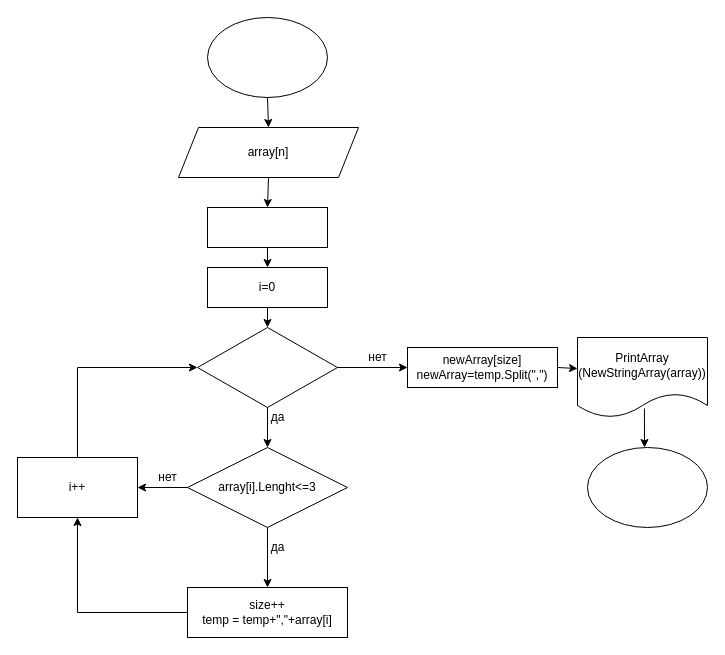
Image size: 725x655. Some labels were removed from this diagram. The centre of each missing label's shape, as x and y in pixels:
"end" belongs at (647,487).
"i<array.Lenght" belongs at (267,367).
"size=0 temp=string.Empty" belongs at (267,227).
"Start" belongs at (267,57).
